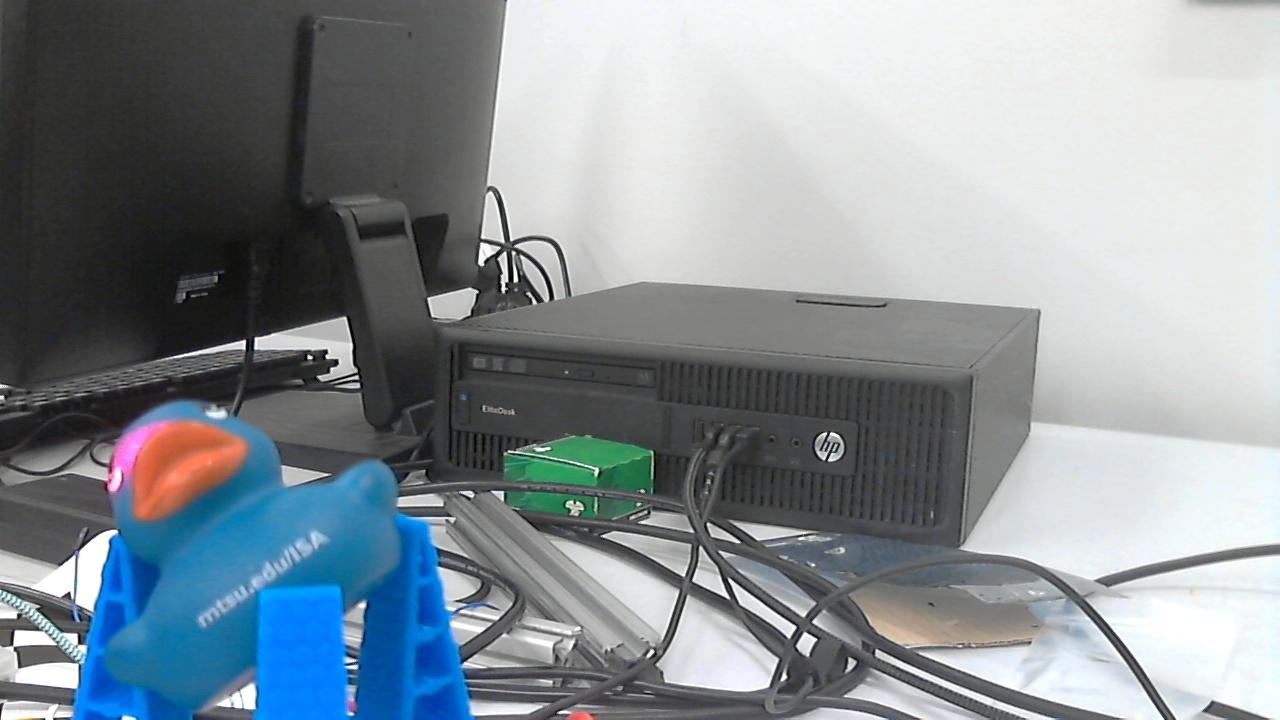Object screw packaging box - Material cardboard - Pdfname VgpKnmoKJfrS: (73, 421, 192, 475)
